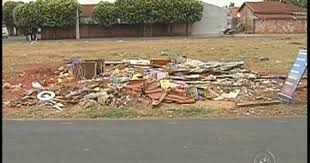rubble: (42, 58, 274, 101)
